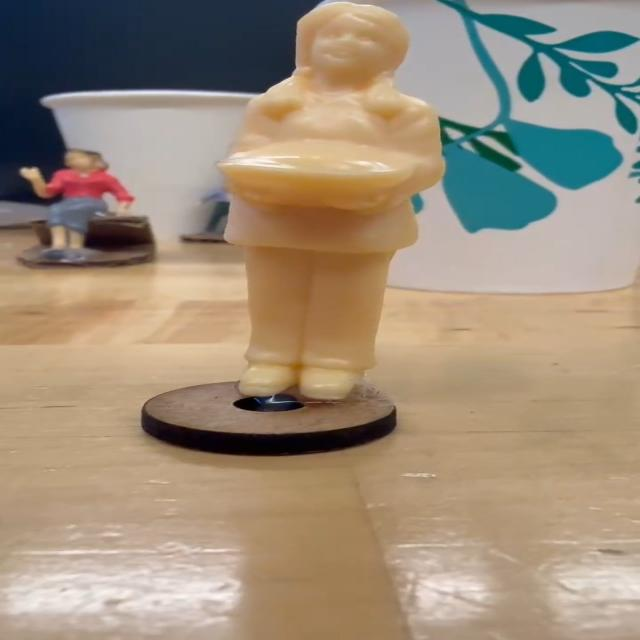Unauthorized: (198, 0, 474, 401)
